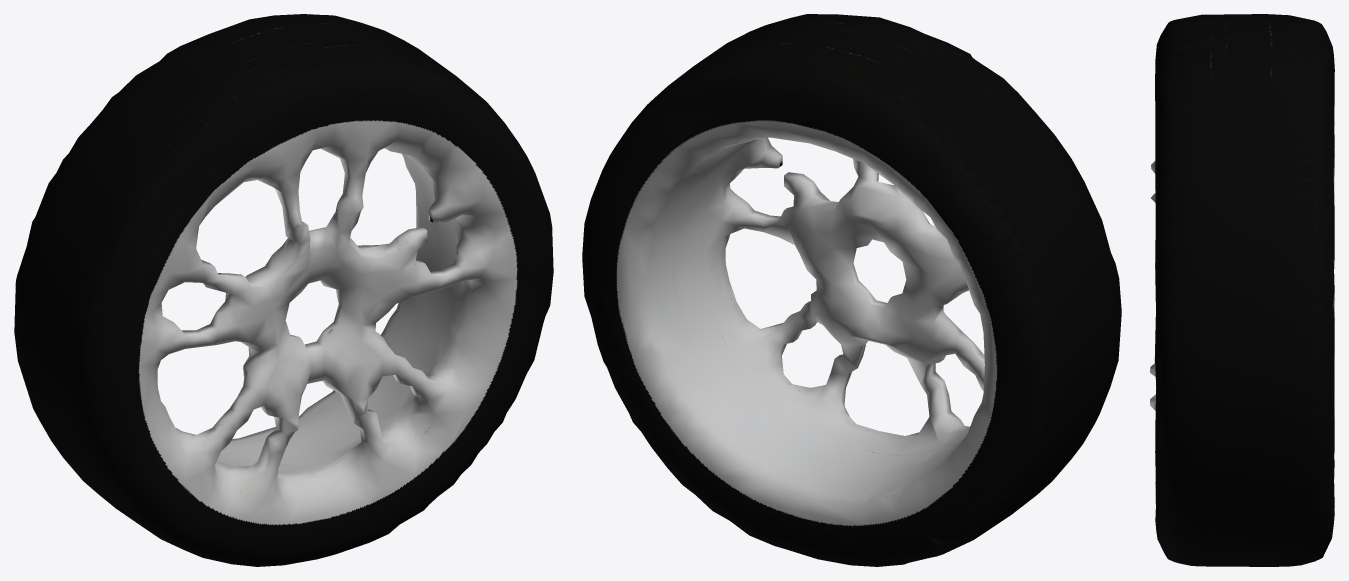
The model's file is wheel-final.glb.
3 views of the same model, side by side, from view 1: azimuth 30°, elevation 25°; view 2: azimuth 150°, elevation 25°; view 3: azimuth 270°, elevation 25° (orthographic).
Visible parts, largest first — view 1: material; view 2: material; view 3: material.
Boxes of the visible parts, x1,y1,x2,y2 form: material: (14, 14, 553, 566); material: (582, 14, 1121, 566); material: (1150, 14, 1334, 566).
Size of the model in its own units: 1.17 by 1.17 by 0.3907.
1 material, 1 textured.
